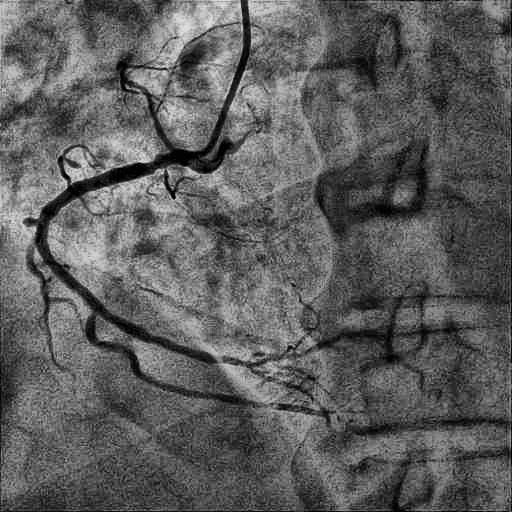pborca: (258, 336, 340, 364)
pda: (251, 369, 330, 427)
rca: (35, 149, 251, 367)
